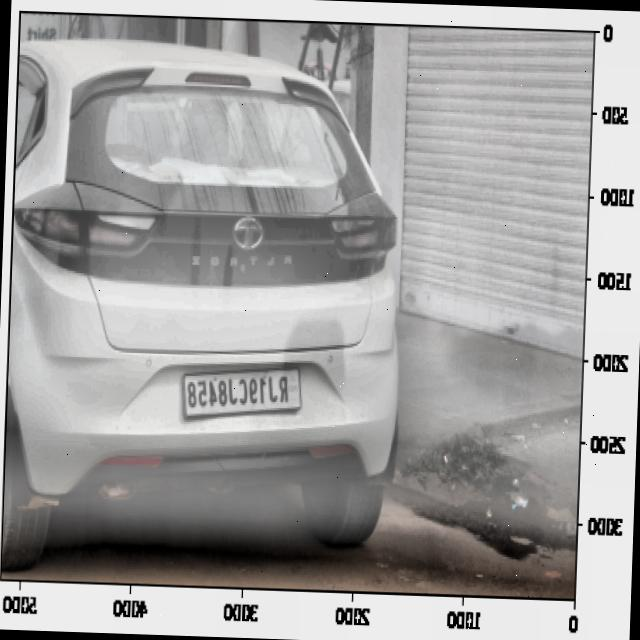license_plate: (183, 364, 294, 418)
